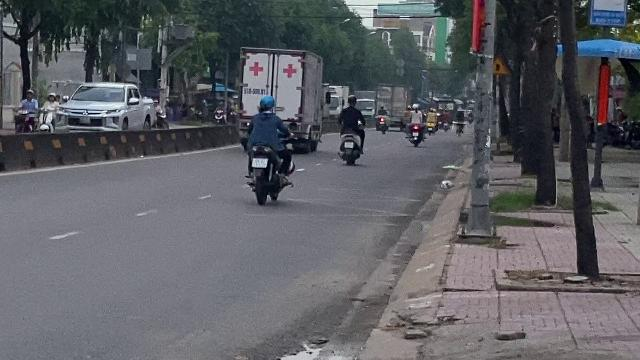helmet: (258, 94, 274, 112)
licenseplate: (252, 158, 266, 168)
motorcyclist: (242, 96, 296, 204)
